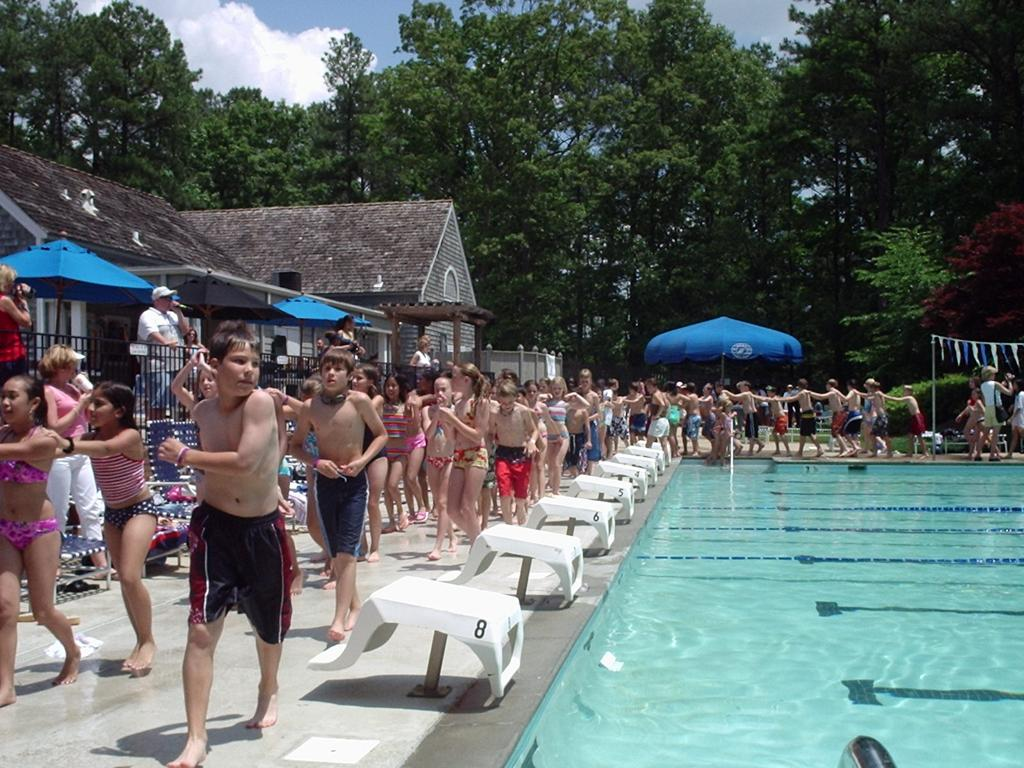face: (219, 341, 260, 397), (3, 378, 32, 424), (87, 388, 115, 428), (321, 358, 348, 392), (199, 370, 218, 395), (352, 367, 368, 392), (434, 381, 451, 403), (385, 376, 399, 399), (452, 368, 464, 392), (500, 395, 516, 412), (416, 373, 428, 391), (551, 383, 563, 398), (526, 384, 537, 399), (579, 376, 590, 389), (514, 392, 524, 404), (488, 386, 497, 399), (569, 395, 579, 406), (539, 383, 548, 393)
